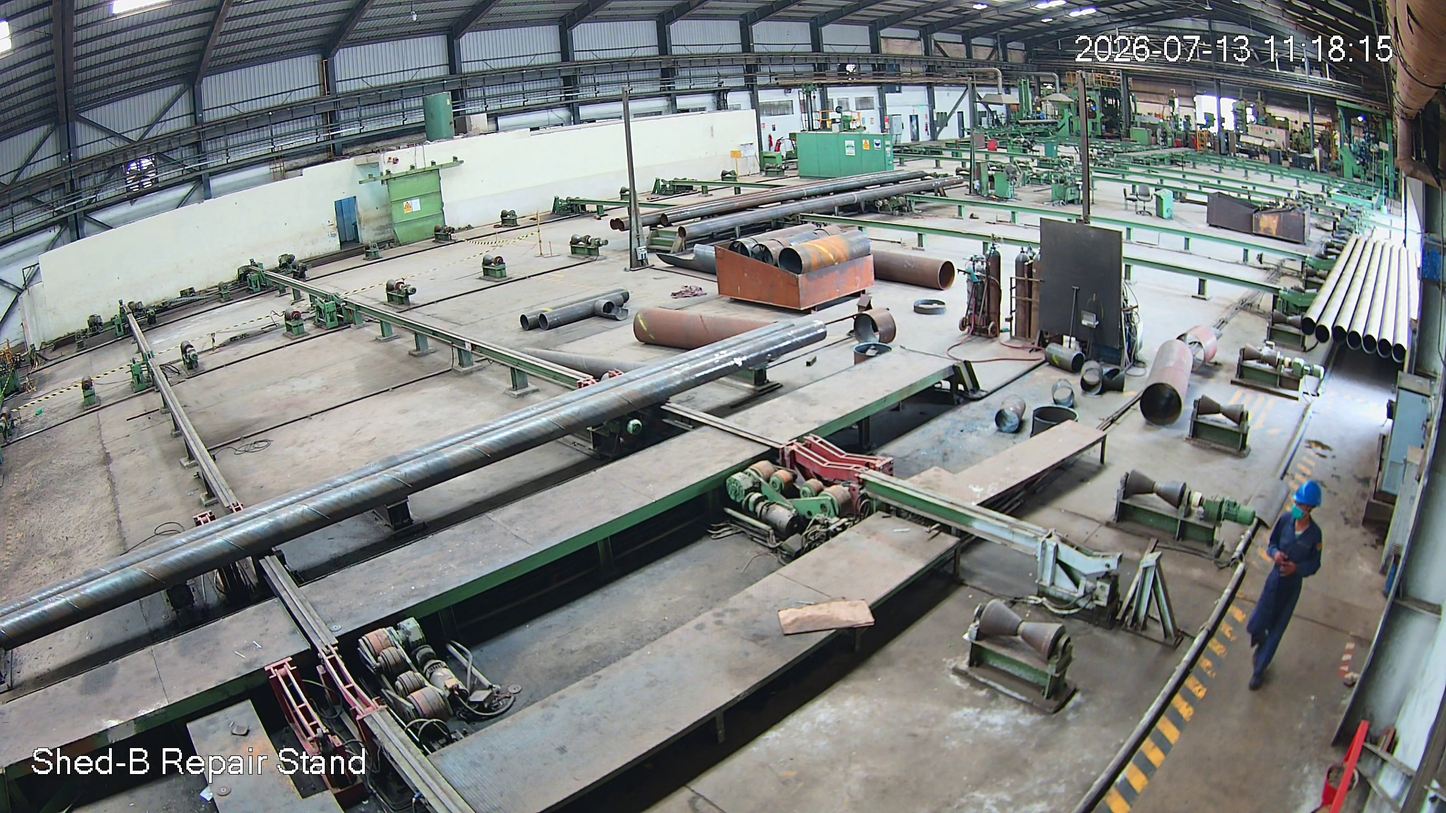Helmet: (1285, 475, 1327, 529)
Person: (1234, 481, 1330, 693)
